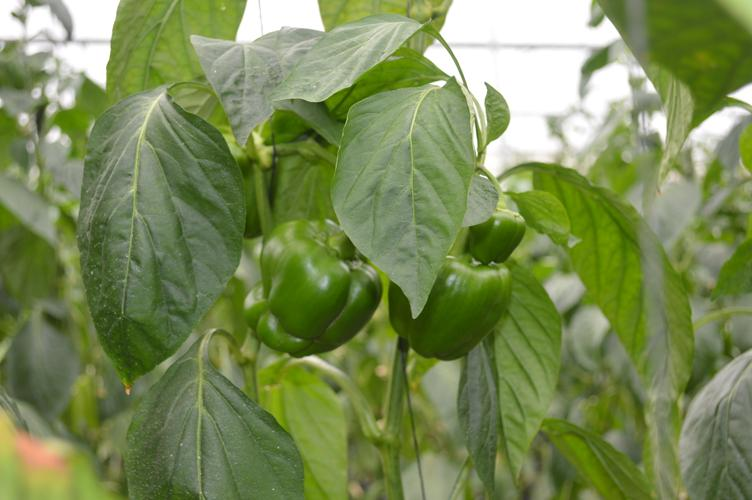BellPepper: (256, 216, 380, 365), (385, 251, 506, 380)
